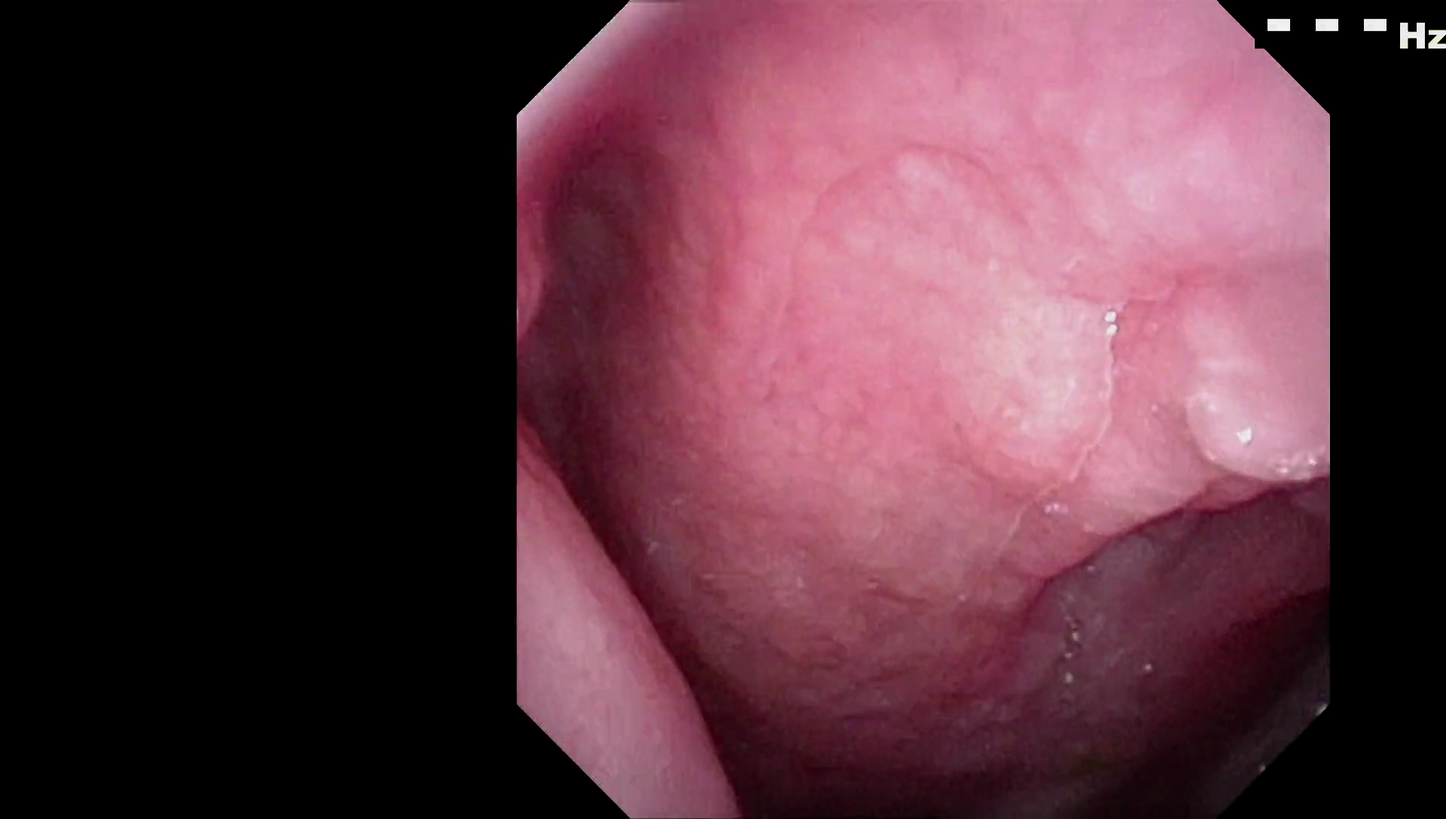close_wall: (761, 99, 1300, 480), (524, 470, 718, 819)
next: (1069, 537, 1317, 811), (667, 642, 968, 819)
